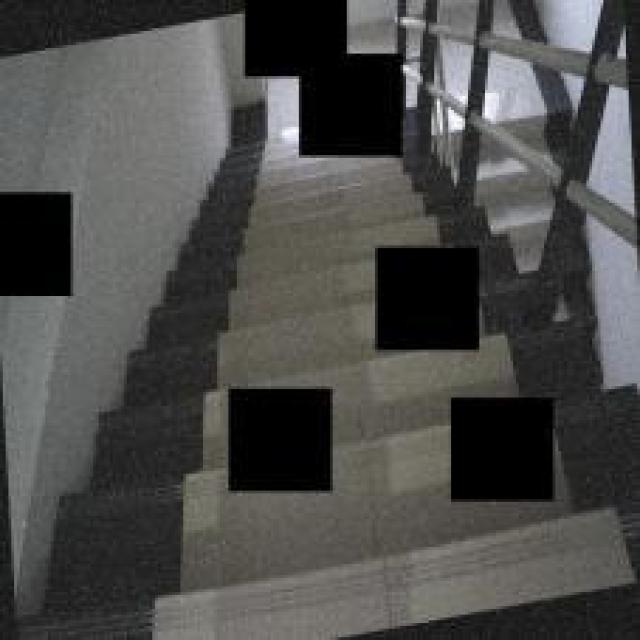downstair: (193, 173, 365, 384)
